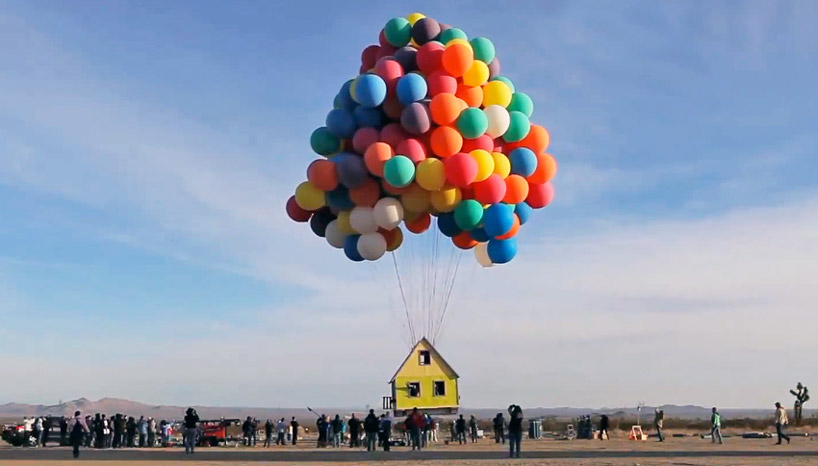Balloon: (354, 74, 386, 107), (383, 154, 415, 187), (446, 153, 478, 185), (429, 93, 460, 125), (308, 158, 338, 190), (431, 126, 463, 156), (482, 105, 510, 139), (458, 107, 488, 138), (453, 199, 483, 230), (416, 158, 446, 189), (401, 102, 431, 132), (295, 181, 326, 210), (508, 147, 537, 177), (444, 45, 472, 76), (375, 197, 402, 229), (357, 231, 386, 260), (396, 73, 426, 101), (327, 108, 355, 138), (486, 203, 514, 233), (488, 236, 518, 264), (310, 126, 340, 154), (365, 142, 392, 173), (384, 17, 412, 46), (412, 17, 442, 44), (475, 175, 505, 202), (351, 204, 377, 231), (483, 80, 511, 105), (463, 60, 490, 85), (505, 174, 527, 202)
